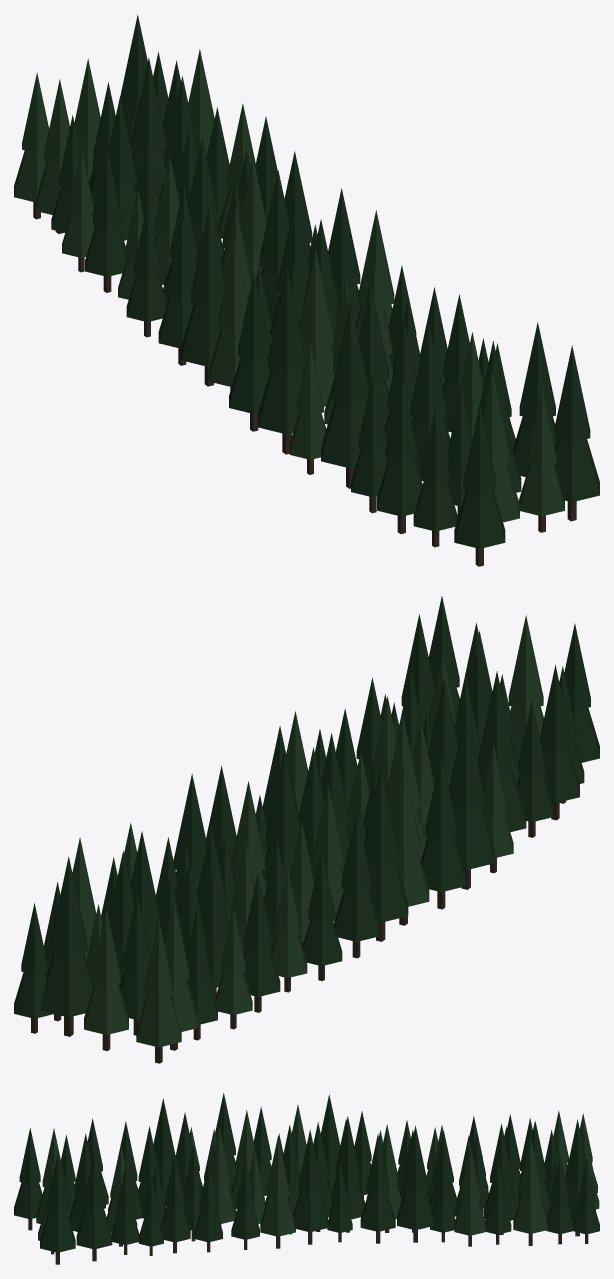
The model's file is forest_edge_02.glb.
3 views of the same model, one above another, from view 1: azimuth 30°, elevation 25°; view 2: azimuth 150°, elevation 25°; view 3: azimuth 270°, elevation 25° (orthographic). The views are drawn at different scales.
Visible parts, largest first — view 1: chunk_0_0; view 2: chunk_0_0; view 3: chunk_0_0.
Boxes of the visible parts, x1,y1,x2,y2 form: chunk_0_0: (14, 14, 599, 566); chunk_0_0: (14, 596, 599, 1063); chunk_0_0: (14, 1093, 599, 1264).
Size of the model in its own units: 32.52 by 31.65 by 122.
